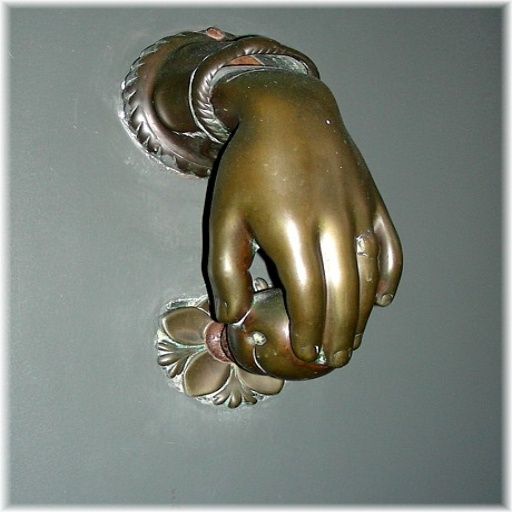hand: (207, 71, 402, 368)
